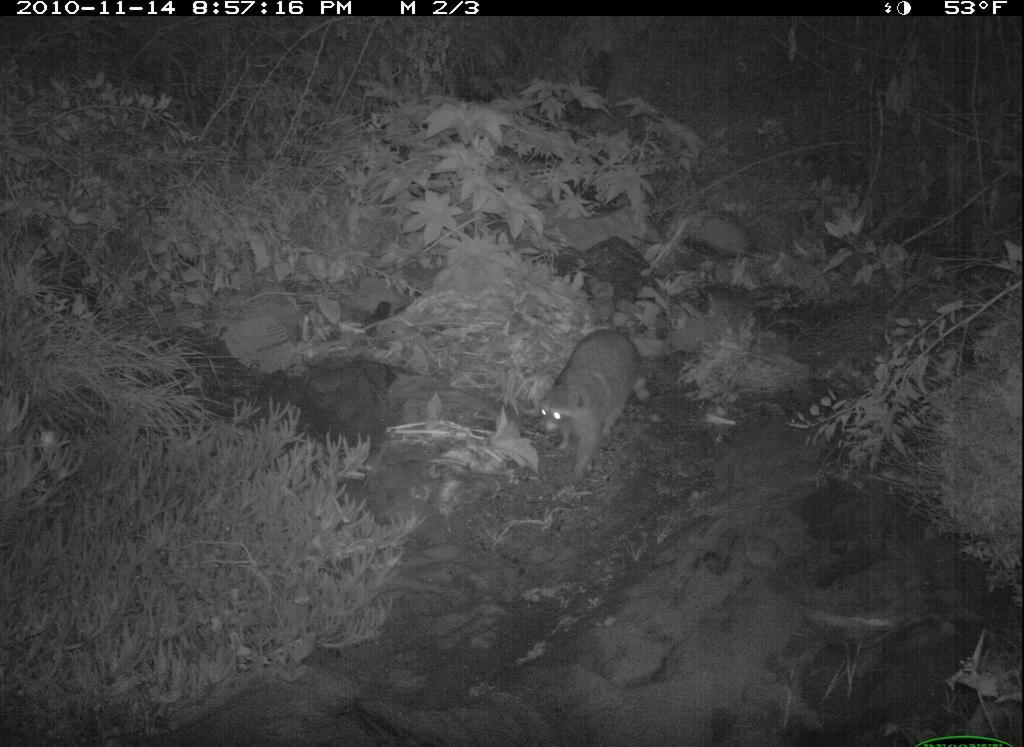raccoon: (537, 301, 647, 505)
